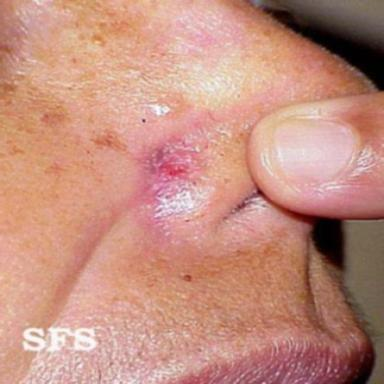basal-cell-carcinoma: (152, 130, 214, 223)
